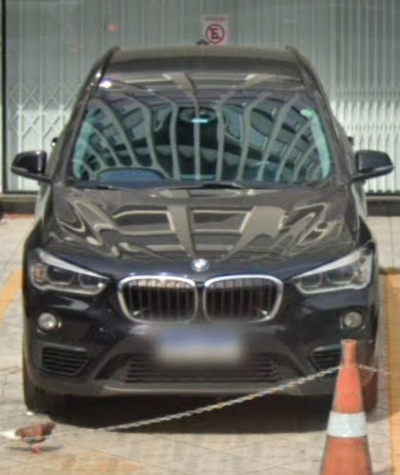car: (9, 39, 384, 415)
